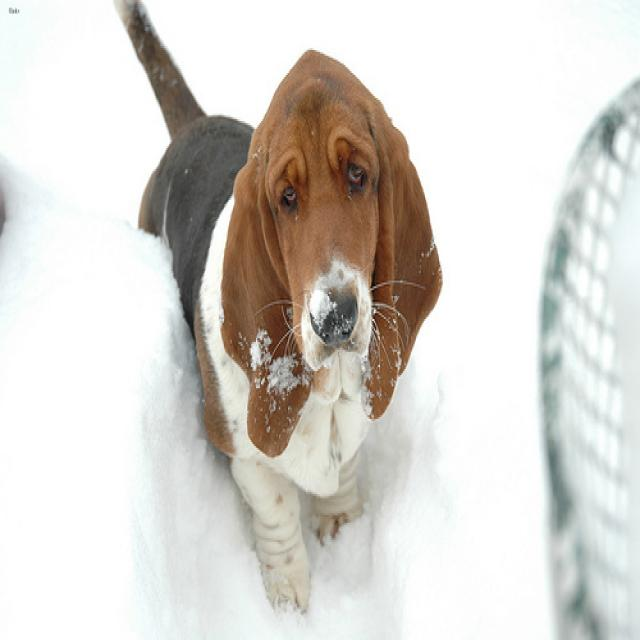dog-basset_hound: (105, 2, 453, 617)
